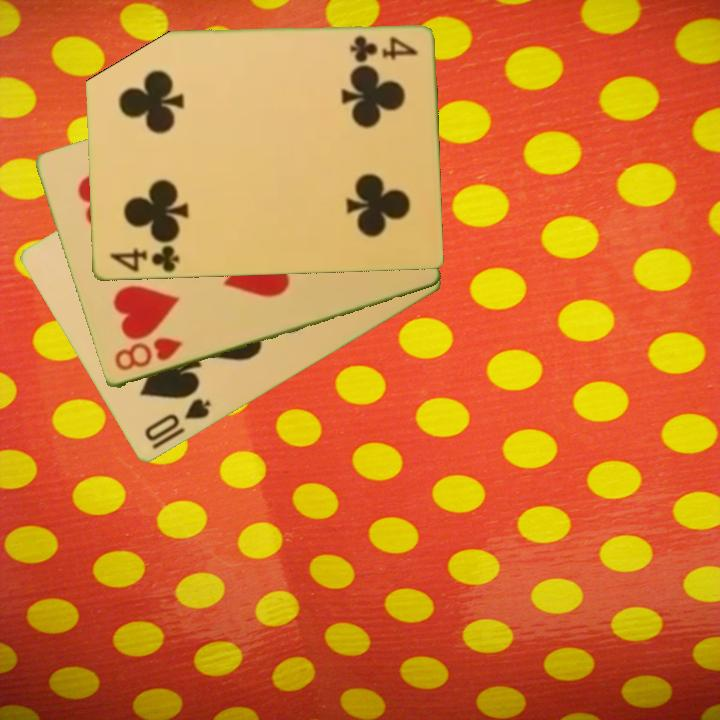10s: (140, 395, 214, 445)
4c: (106, 242, 181, 276), (346, 33, 420, 62)
8h: (110, 334, 185, 374)
